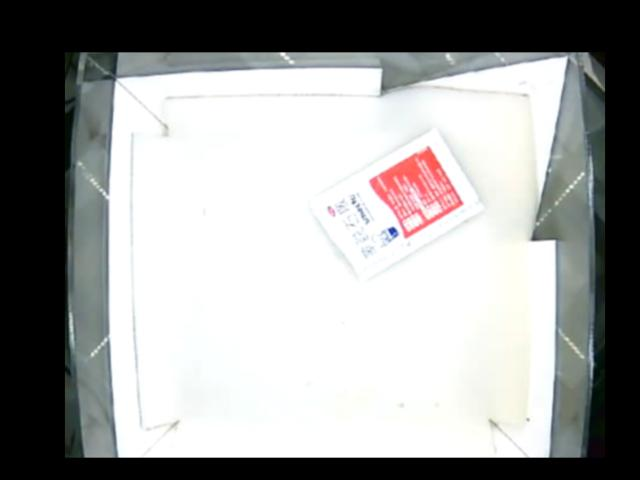Medicine: (307, 126, 485, 279)
